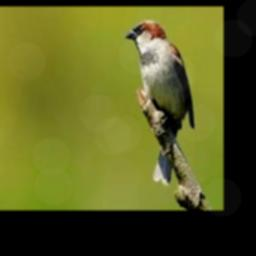Sparrow: (126, 20, 196, 185)
